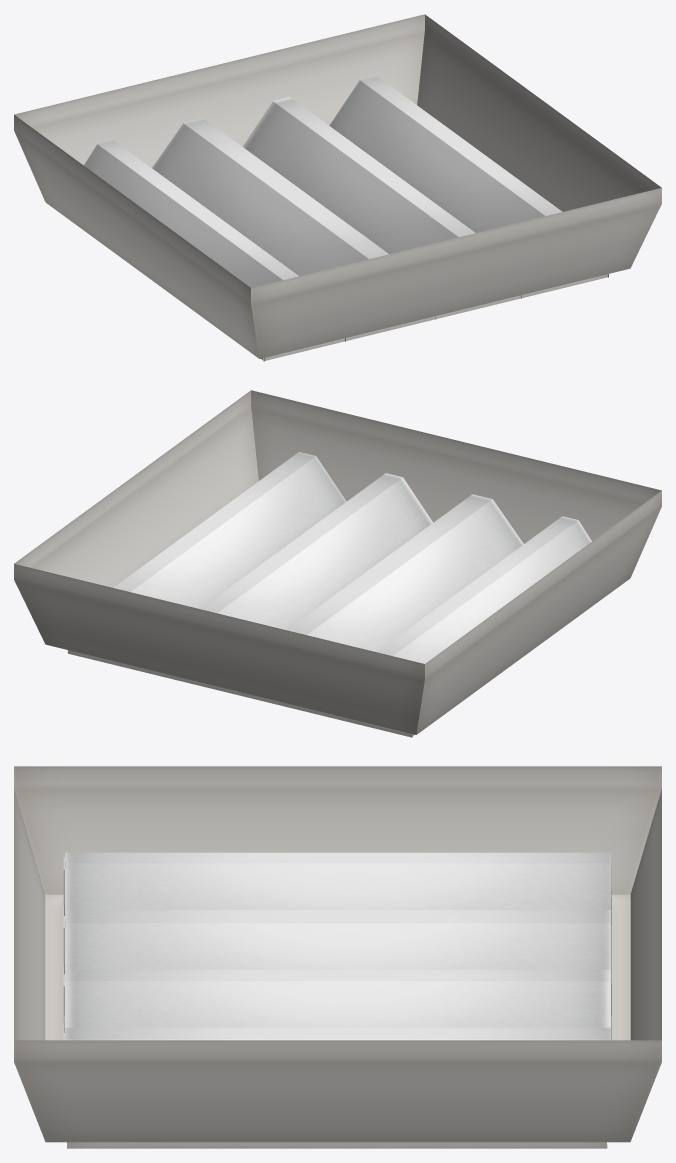
The model's file is Lum-plafonnier-carre-D-On_01.FBX.
3 views of the same model, one above another, from view 1: azimuth 30°, elevation 25°; view 2: azimuth 150°, elevation 25°; view 3: azimuth 270°, elevation 25° (orthographic). The views are drawn at different scales.
Parts seen in each view (by area): view 1: Lum-plafonnier-carre-D-On_01; view 2: Lum-plafonnier-carre-D-On_01; view 3: Lum-plafonnier-carre-D-On_01.
Part boxes in pixels (x1,y1,x2,y2): Lum-plafonnier-carre-D-On_01: (14, 14, 661, 361); Lum-plafonnier-carre-D-On_01: (14, 390, 661, 737); Lum-plafonnier-carre-D-On_01: (14, 766, 661, 1148).
Bounding box in the file's own units: 50.06 × 50.03 × 11.17.
Materials: 2 (2 with a texture image).
